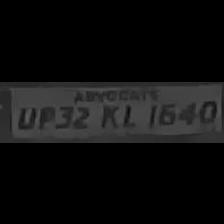0: (195, 96, 217, 124)
1: (141, 100, 157, 126)
2: (70, 100, 92, 130)
3: (52, 100, 72, 130)
4: (177, 96, 197, 124)
6: (154, 99, 178, 125)
K: (94, 100, 120, 128)
L: (117, 99, 137, 127)
P: (37, 102, 53, 130)
U: (13, 102, 37, 130)
